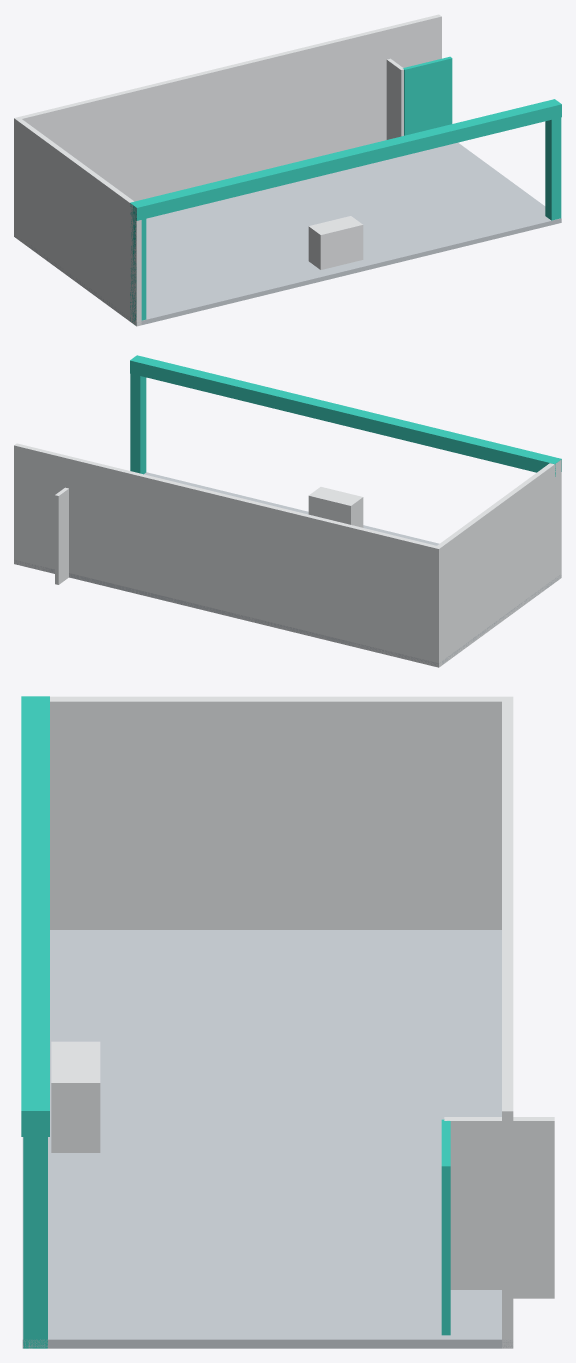
The picture shows the model from 3 angles, top to bottom: view 1: azimuth 30°, elevation 25°; view 2: azimuth 150°, elevation 25°; view 3: azimuth 270°, elevation 25°; orthographic projection. The views are drawn at different scales.
Visible parts, largest first — view 1: Exhibition Booth Concept; view 2: Exhibition Booth Concept; view 3: Exhibition Booth Concept.
Part boxes in pixels (x1=…): Exhibition Booth Concept: x1=14, y1=14, x2=561, y2=326; Exhibition Booth Concept: x1=14, y1=355, x2=561, y2=667; Exhibition Booth Concept: x1=21, y1=696, x2=554, y2=1348.
Bounding box in the file's own units: 12 × 3.2 × 6.52.
